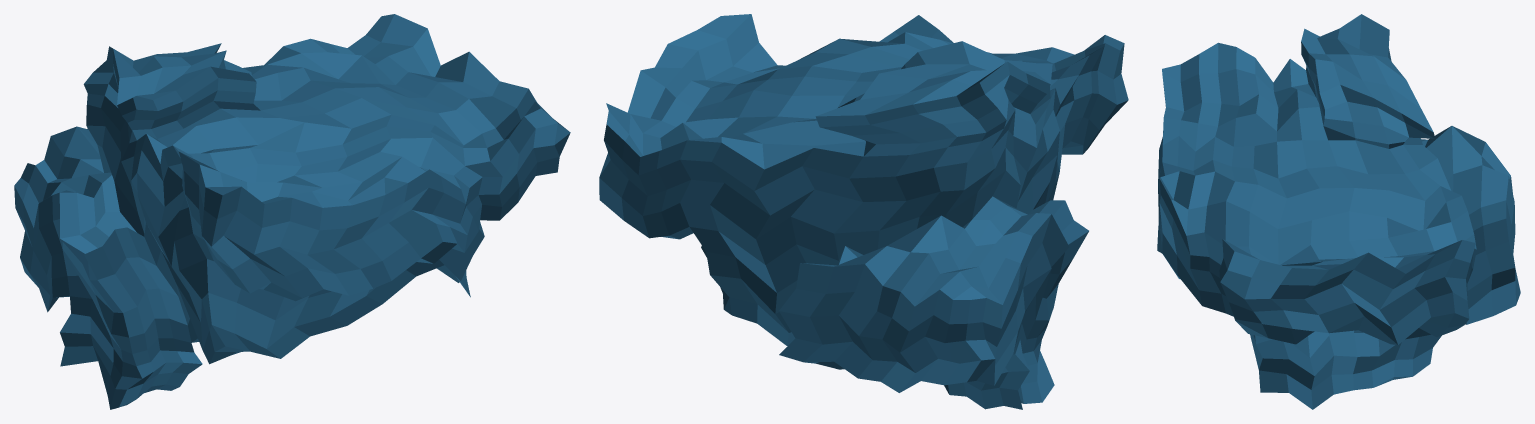
The model's file is rock024.FBX.
The picture shows the model from 3 angles, left to right: view 1: azimuth 30°, elevation 25°; view 2: azimuth 150°, elevation 25°; view 3: azimuth 270°, elevation 25°; orthographic projection. The views are drawn at different scales.
Parts seen in each view (by area): view 1: rock_024; view 2: rock_024; view 3: rock_024.
Part boxes in pixels (<box>): rock_024: <box>14,14,570,409</box>; rock_024: <box>599,14,1128,409</box>; rock_024: <box>1157,14,1520,409</box>.
Size of the model in its own units: 18.02 by 13.24 by 14.28.
